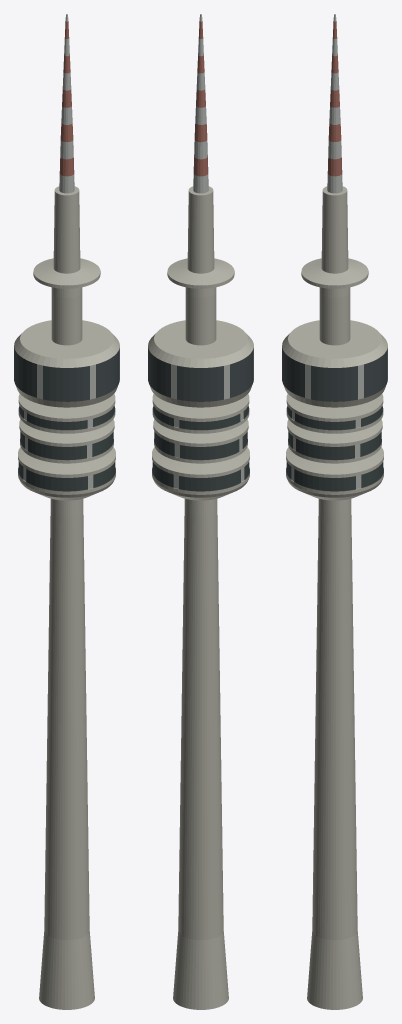
Rendered from olympiaturm-munich-near.glb.
3 renders of one model, left to right at view 1: azimuth 90°, elevation 25°; view 2: azimuth 210°, elevation 25°; view 3: azimuth 270°, elevation 25°, orthographic.
Visible parts, largest first — view 1: olympiaturm-munich-0-stone, olympiaturm-munich-0-grille, olympiaturm-munich-0-glass, olympiaturm-munich-0-metal, olympiaturm-munich-0-beacon; view 2: olympiaturm-munich-0-stone, olympiaturm-munich-0-grille, olympiaturm-munich-0-glass, olympiaturm-munich-0-metal, olympiaturm-munich-0-beacon; view 3: olympiaturm-munich-0-stone, olympiaturm-munich-0-grille, olympiaturm-munich-0-glass, olympiaturm-munich-0-metal, olympiaturm-munich-0-beacon.
Part boxes in pixels (left/top/right/bottom): olympiaturm-munich-0-stone: left=14, top=186, right=119, bottom=1009; olympiaturm-munich-0-grille: left=18, top=406, right=115, bottom=491; olympiaturm-munich-0-glass: left=14, top=347, right=119, bottom=401; olympiaturm-munich-0-metal: left=23, top=14, right=119, bottom=489; olympiaturm-munich-0-beacon: left=59, top=21, right=74, bottom=176; olympiaturm-munich-0-stone: left=148, top=186, right=253, bottom=1009; olympiaturm-munich-0-grille: left=152, top=406, right=249, bottom=491; olympiaturm-munich-0-glass: left=148, top=347, right=253, bottom=401; olympiaturm-munich-0-metal: left=171, top=14, right=253, bottom=489; olympiaturm-munich-0-beacon: left=193, top=21, right=208, bottom=176; olympiaturm-munich-0-stone: left=282, top=186, right=387, bottom=1009; olympiaturm-munich-0-grille: left=286, top=406, right=383, bottom=491; olympiaturm-munich-0-glass: left=282, top=347, right=387, bottom=401; olympiaturm-munich-0-metal: left=291, top=14, right=387, bottom=489; olympiaturm-munich-0-beacon: left=327, top=21, right=342, bottom=176.
Bounding box in the file's own units: 28.36 × 291 × 28.36.
